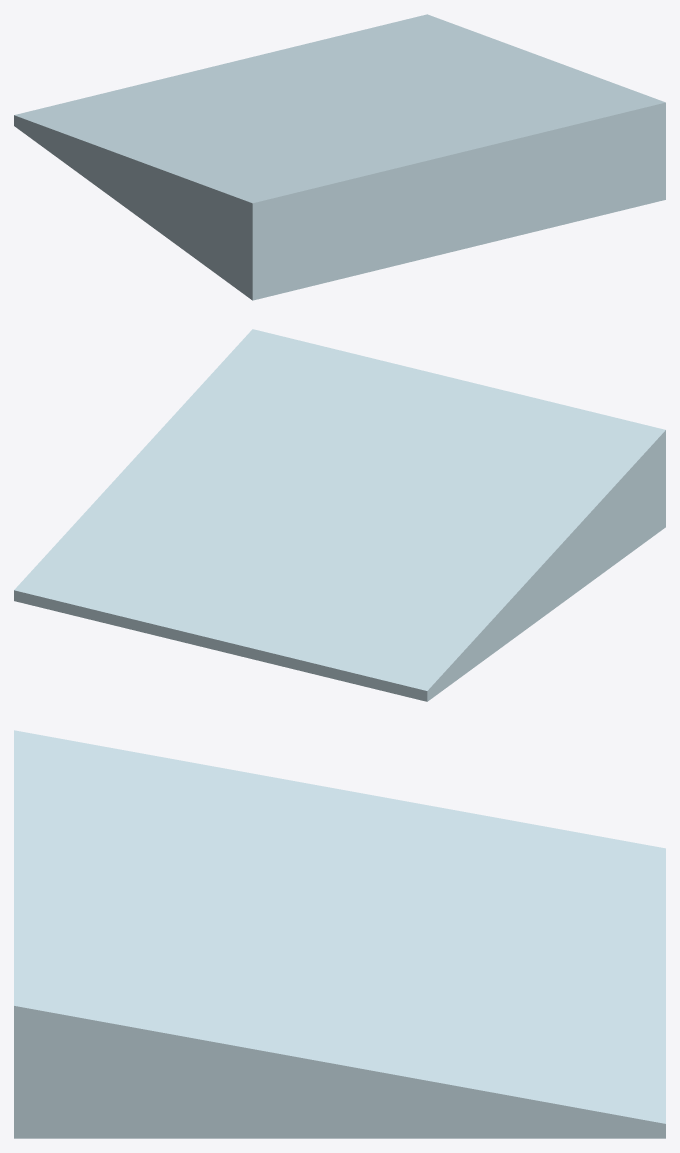
The picture shows the model from 3 angles, top to bottom: view 1: azimuth 30°, elevation 25°; view 2: azimuth 150°, elevation 25°; view 3: azimuth 270°, elevation 25°; orthographic projection. The views are drawn at different scales.
Visible parts, largest first — view 1: roadSlope; view 2: roadSlope; view 3: roadSlope.
Boxes of the visible parts, x1,y1,x2,y2 form: roadSlope: (14, 14, 665, 300); roadSlope: (14, 329, 665, 701); roadSlope: (14, 730, 665, 1138).
Bounding box in the file's own units: 1 × 0.225 × 1.
